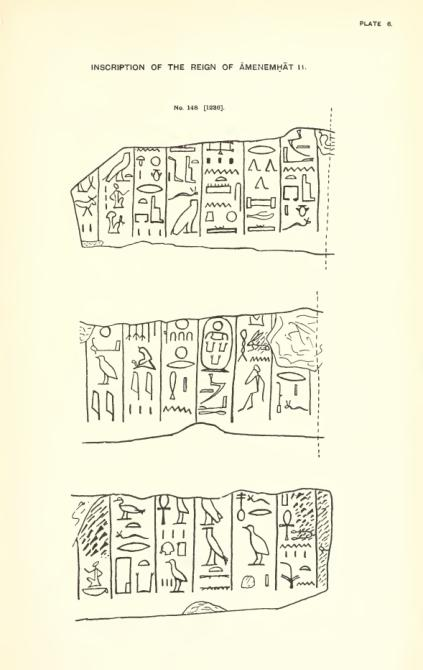circle: (199, 315, 236, 374)
